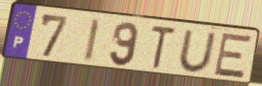7: (39, 12, 71, 59)
9: (109, 20, 141, 68)
E: (212, 31, 255, 80)
I: (82, 17, 103, 65)
T: (149, 24, 179, 71)
U: (177, 29, 218, 74)
